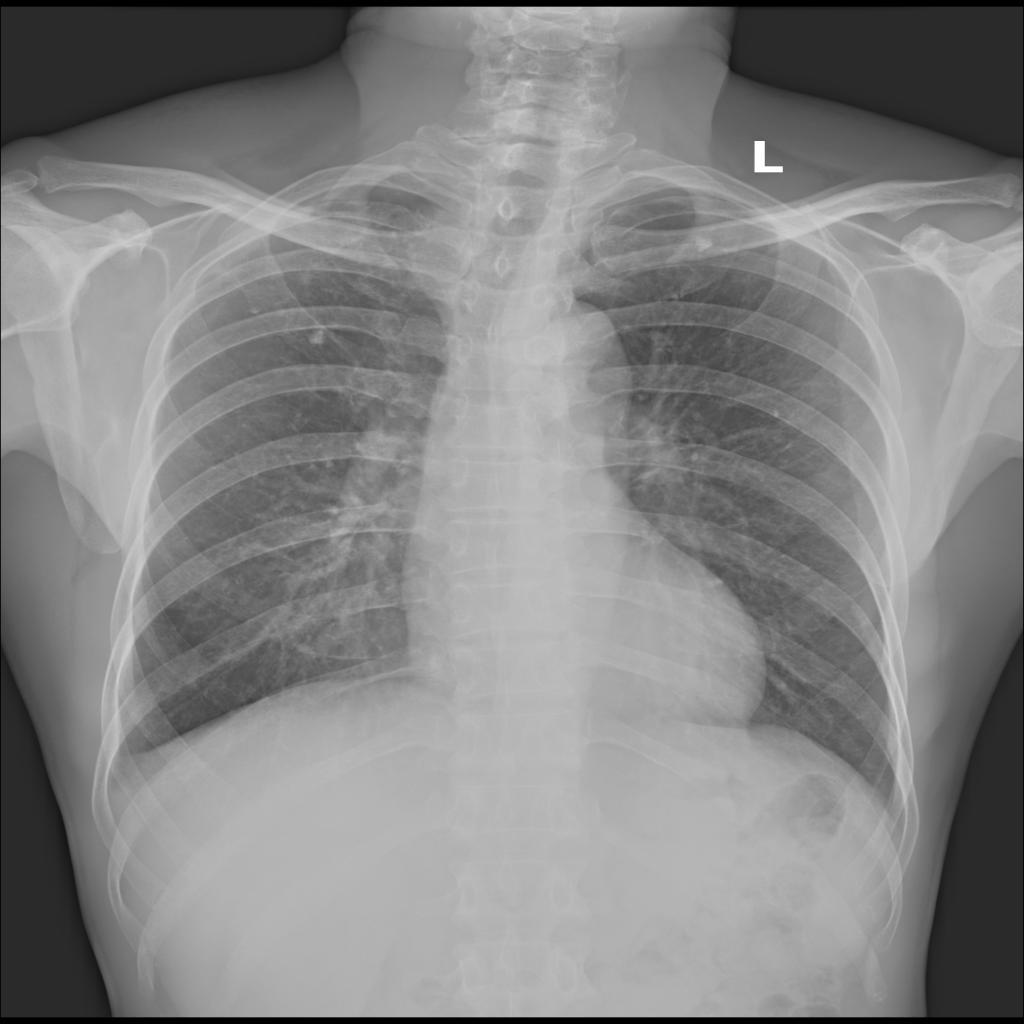Nodule: (305, 328, 328, 346), (692, 235, 714, 253)
